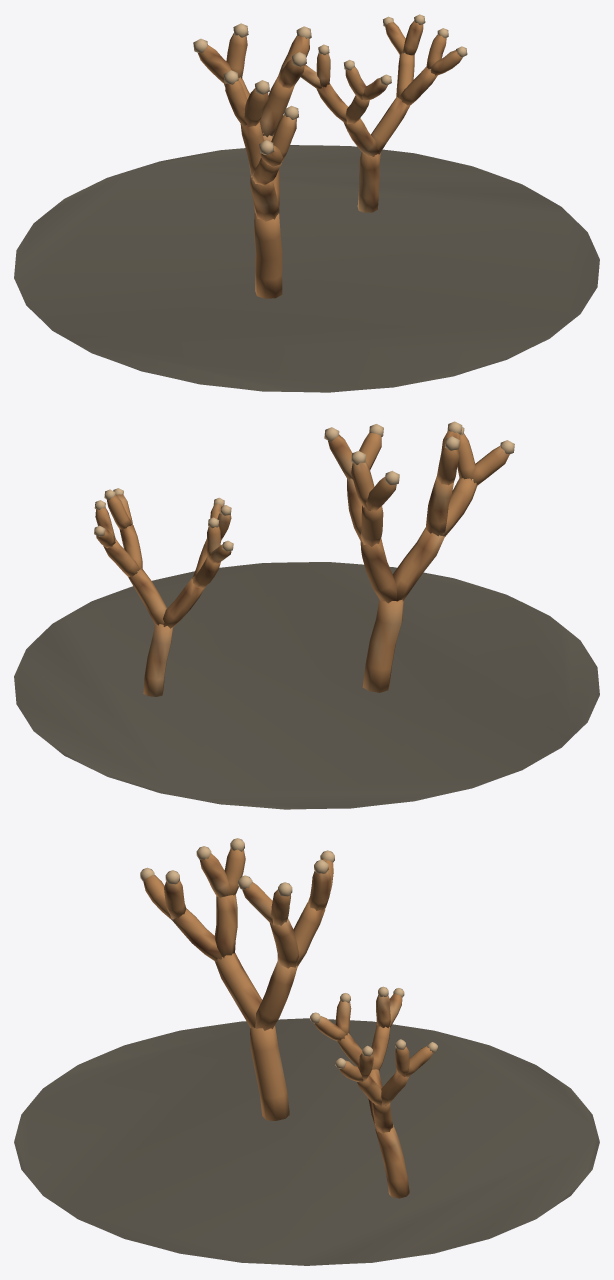
Rendered from HalloporaElegantula.fbx.
3 renders of one model, top to bottom at view 1: azimuth 30°, elevation 25°; view 2: azimuth 150°, elevation 25°; view 3: azimuth 270°, elevation 25°, orthographic.
Parts seen in each view (by area): view 1: HalloporaElegantula; view 2: HalloporaElegantula; view 3: HalloporaElegantula.
Boxes of the visible parts, x1,y1,x2,y2 form: HalloporaElegantula: [14, 14, 599, 392]; HalloporaElegantula: [14, 421, 599, 809]; HalloporaElegantula: [14, 838, 599, 1265].
Size of the model in its own units: 1.9 by 0.9141 by 1.9.
